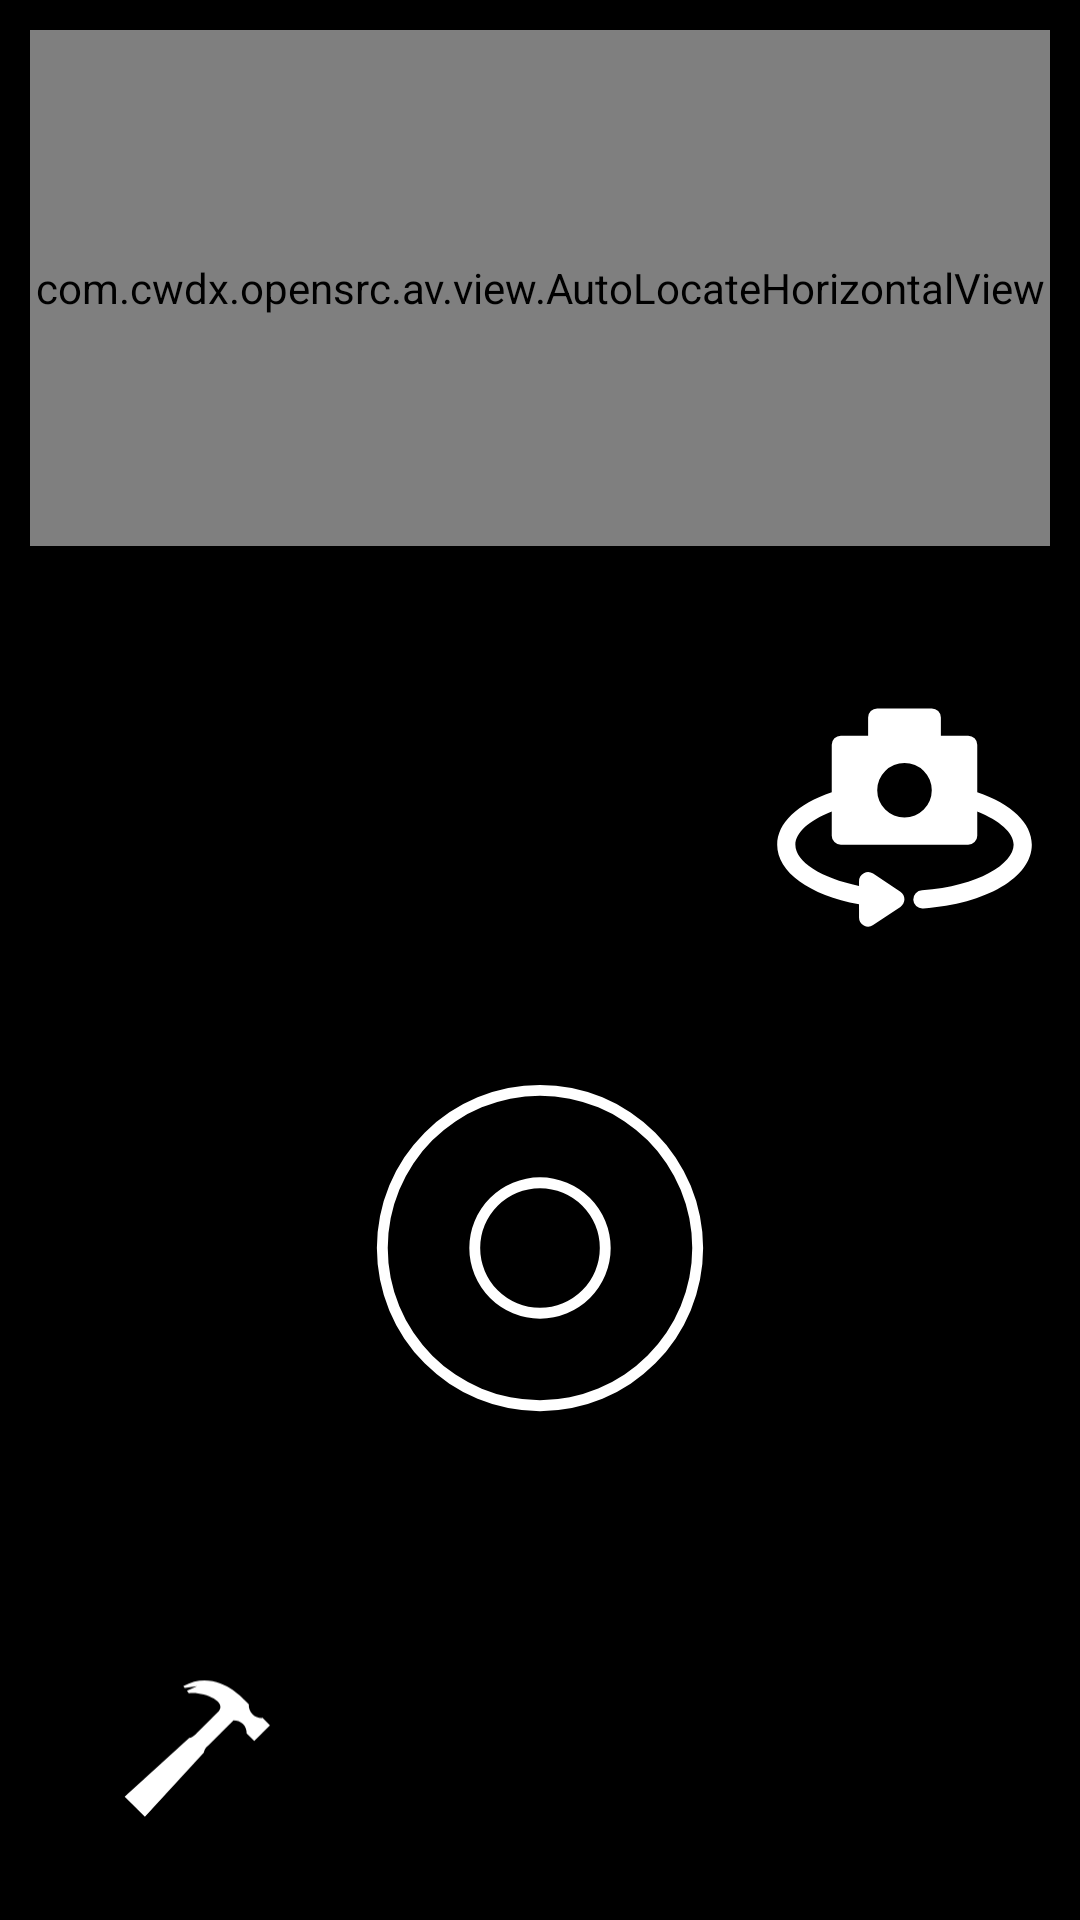

Where to tap for icons on this 1080*1920 app screen, as (x=x, y=y):
camera capture: (x=540, y=1248)
camera switch: (x=904, y=817)
